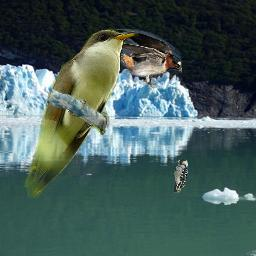Cuckoo: (23, 28, 139, 198)
Swallow: (103, 29, 182, 88)
Woodpecker: (174, 159, 188, 193)
